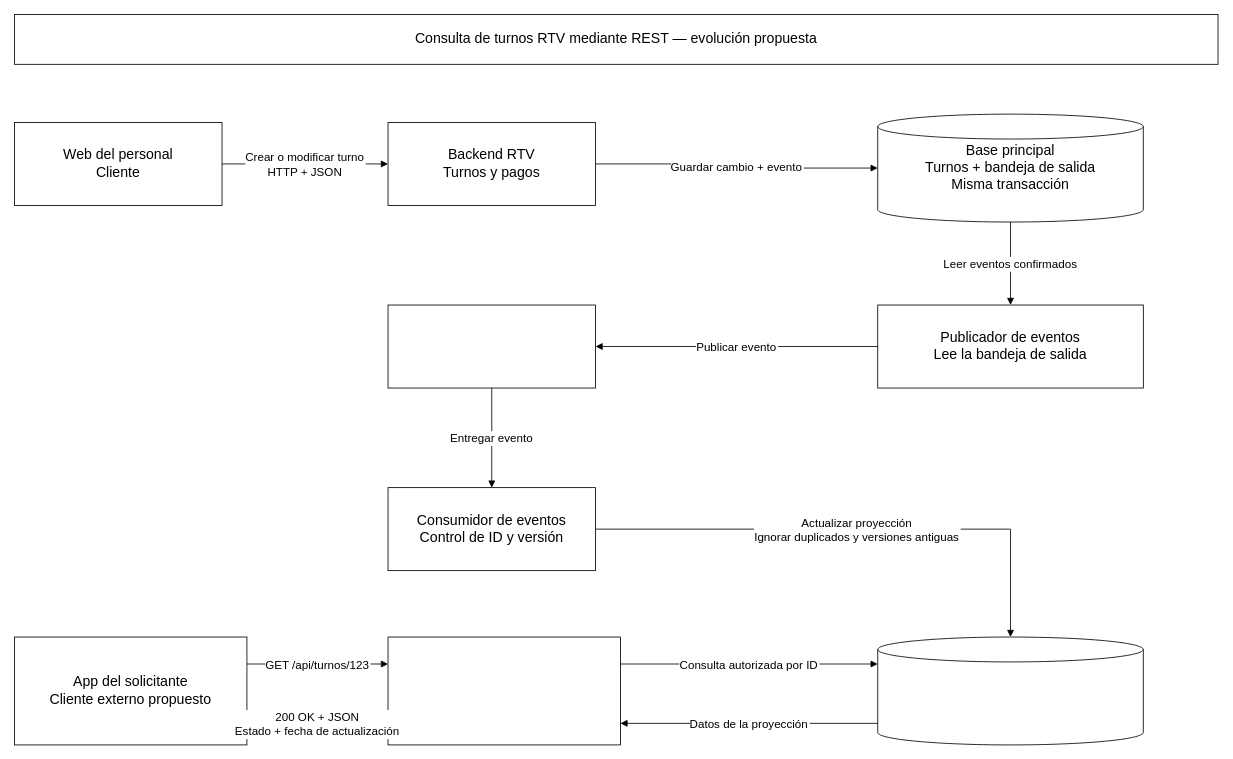
Image size: 1233x759. Some labels were removed from this diagram. The shapes that lost their labels are listed below. From the top down, each one's box as (x1, y1, x2, y2) in pixels, then its label:
(387, 304, 596, 388): Cola de mensajes Cambios confirmados
(387, 636, 620, 745): Servicio REST de consulta Identidad y autorización
(877, 636, 1143, 745): Base de lectura Proyección de turnos
